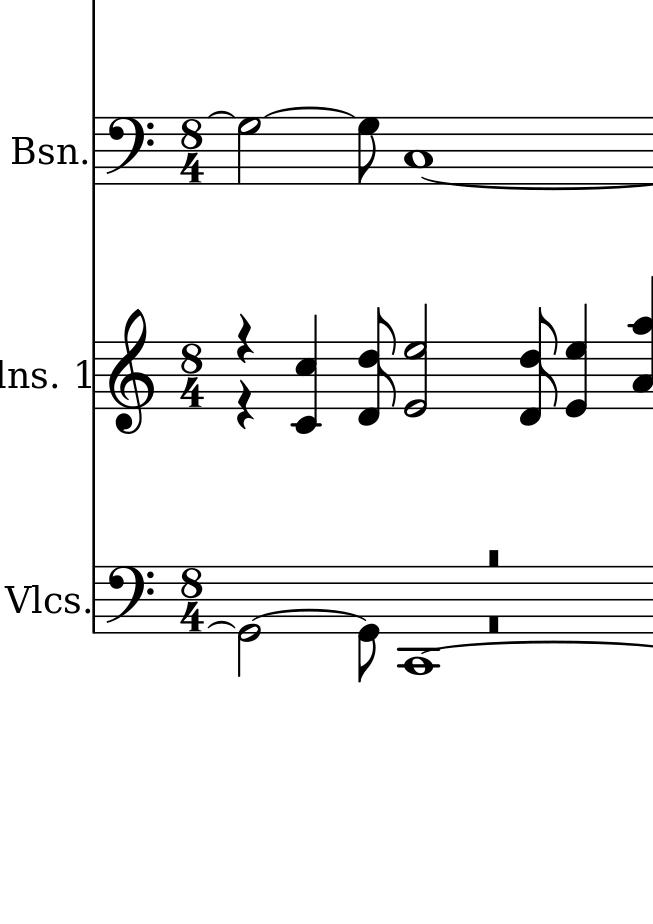1_-4: (401, 563, 437, 677)
1_3: (403, 114, 434, 186)
2_0: (236, 564, 259, 677)
2_0_7: (403, 304, 431, 418)
2_7: (235, 115, 261, 186)
4: (177, 150, 206, 184), (177, 599, 206, 633), (177, 376, 207, 407)
4_-2_5: (290, 315, 322, 434)
4_0_7: (563, 304, 591, 418)
8: (179, 339, 205, 374), (179, 564, 205, 599), (179, 116, 204, 150)
8_-1_6: (356, 306, 397, 426), (519, 306, 560, 426)
8_0: (357, 564, 380, 684)
8_7: (355, 116, 382, 185)
Bsn: (10, 132, 78, 172)
Fclef: (103, 114, 153, 186), (104, 564, 154, 635)
Gclef: (106, 310, 157, 438)
Rests4: (234, 380, 257, 432), (234, 313, 256, 365)
Single_barline: (87, 117, 103, 186), (87, 566, 102, 633), (89, 340, 102, 406)
Slur: (247, 608, 371, 623), (263, 107, 356, 118), (205, 620, 234, 631), (209, 109, 235, 119)
TimeSig: (178, 118, 206, 185), (178, 341, 206, 408), (178, 565, 205, 633)
Vlc: (6, 579, 65, 619)
